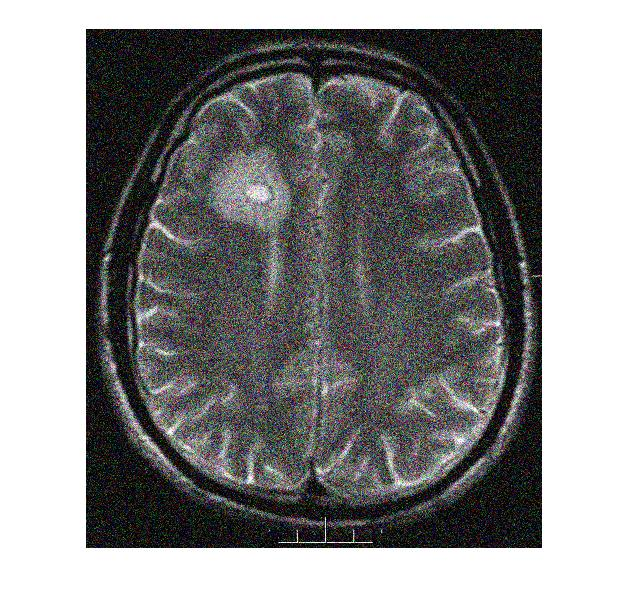Brain_Cancer: (207, 144, 292, 230)
